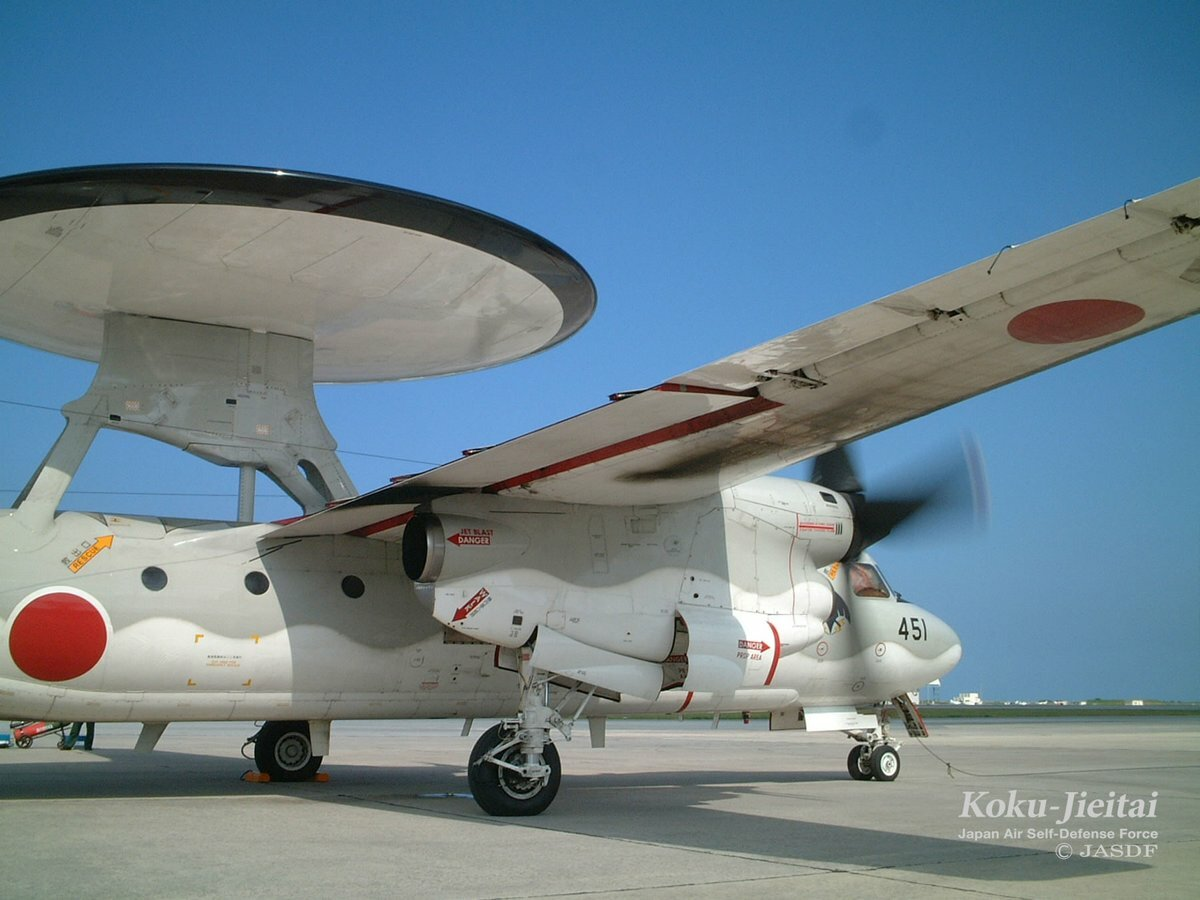E2: (1, 161, 1200, 817)
